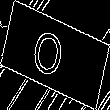O_S: (35, 24, 75, 86)
